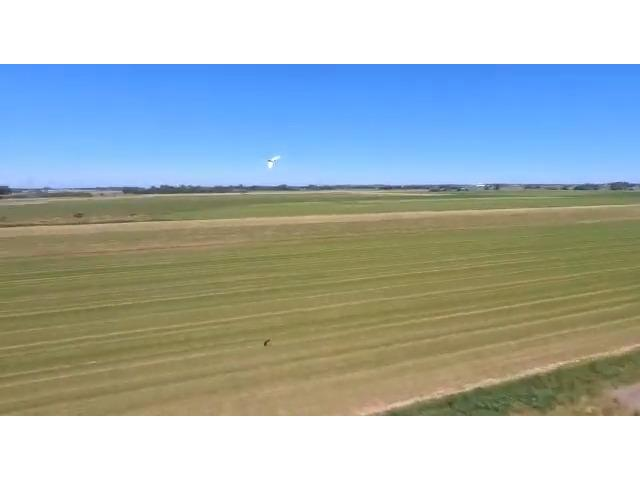Anti-Drone: (260, 148, 286, 172)
